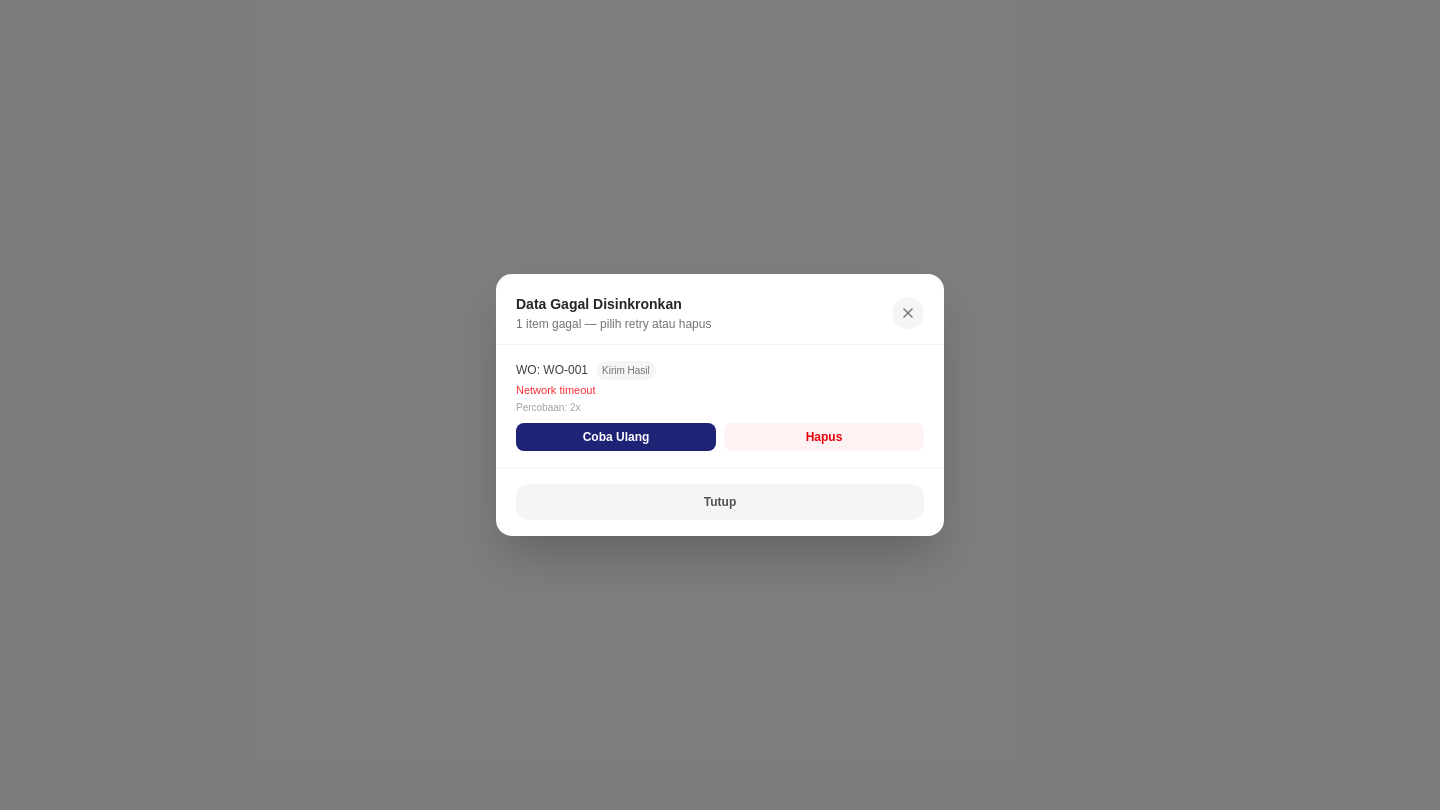
Test: PendingItemsModal › shows confirmation buttons after 'Hapus' is clicked
Step 1. Click the button "Hapus" → x=824, y=437, box [724, 423, 924, 451]
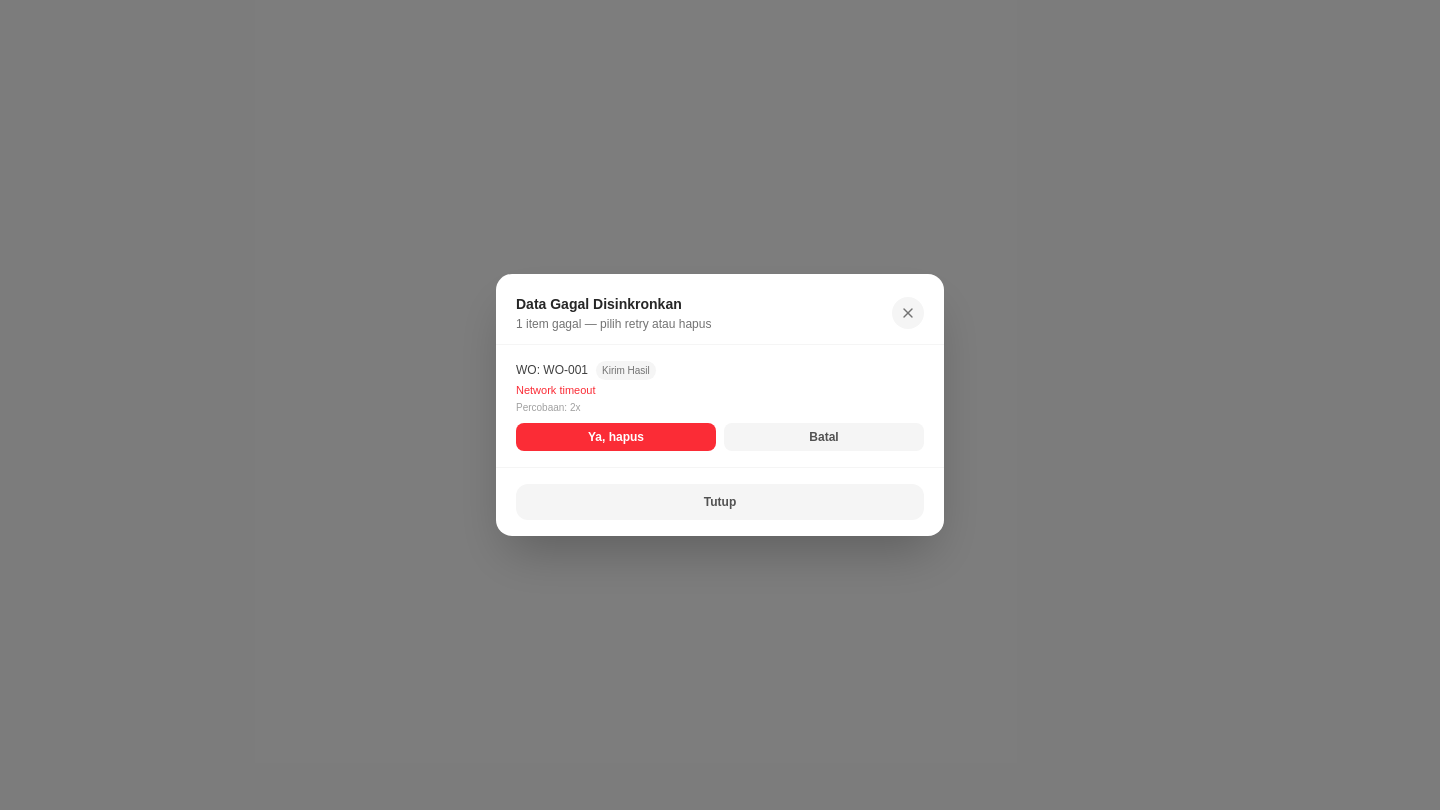
Check: the button "Ya, hapus" is shown, box [516, 423, 716, 451]
Check: the button "Batal" is shown, box [724, 423, 924, 451]
